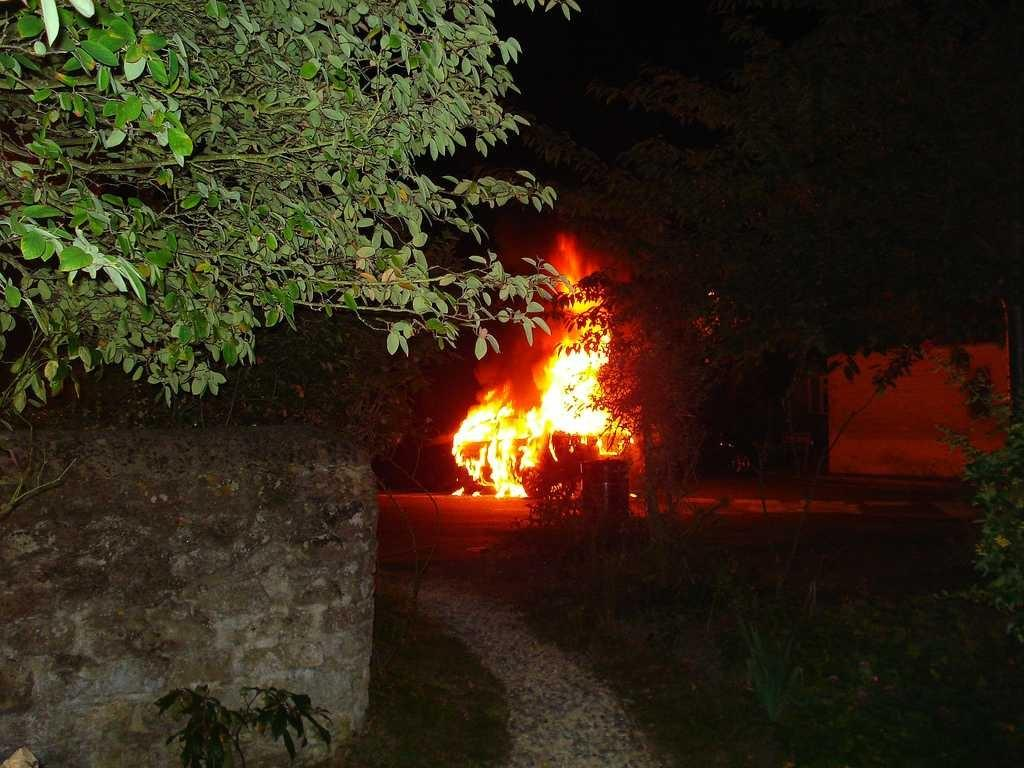fire: (534, 338, 610, 440), (466, 412, 540, 502)
